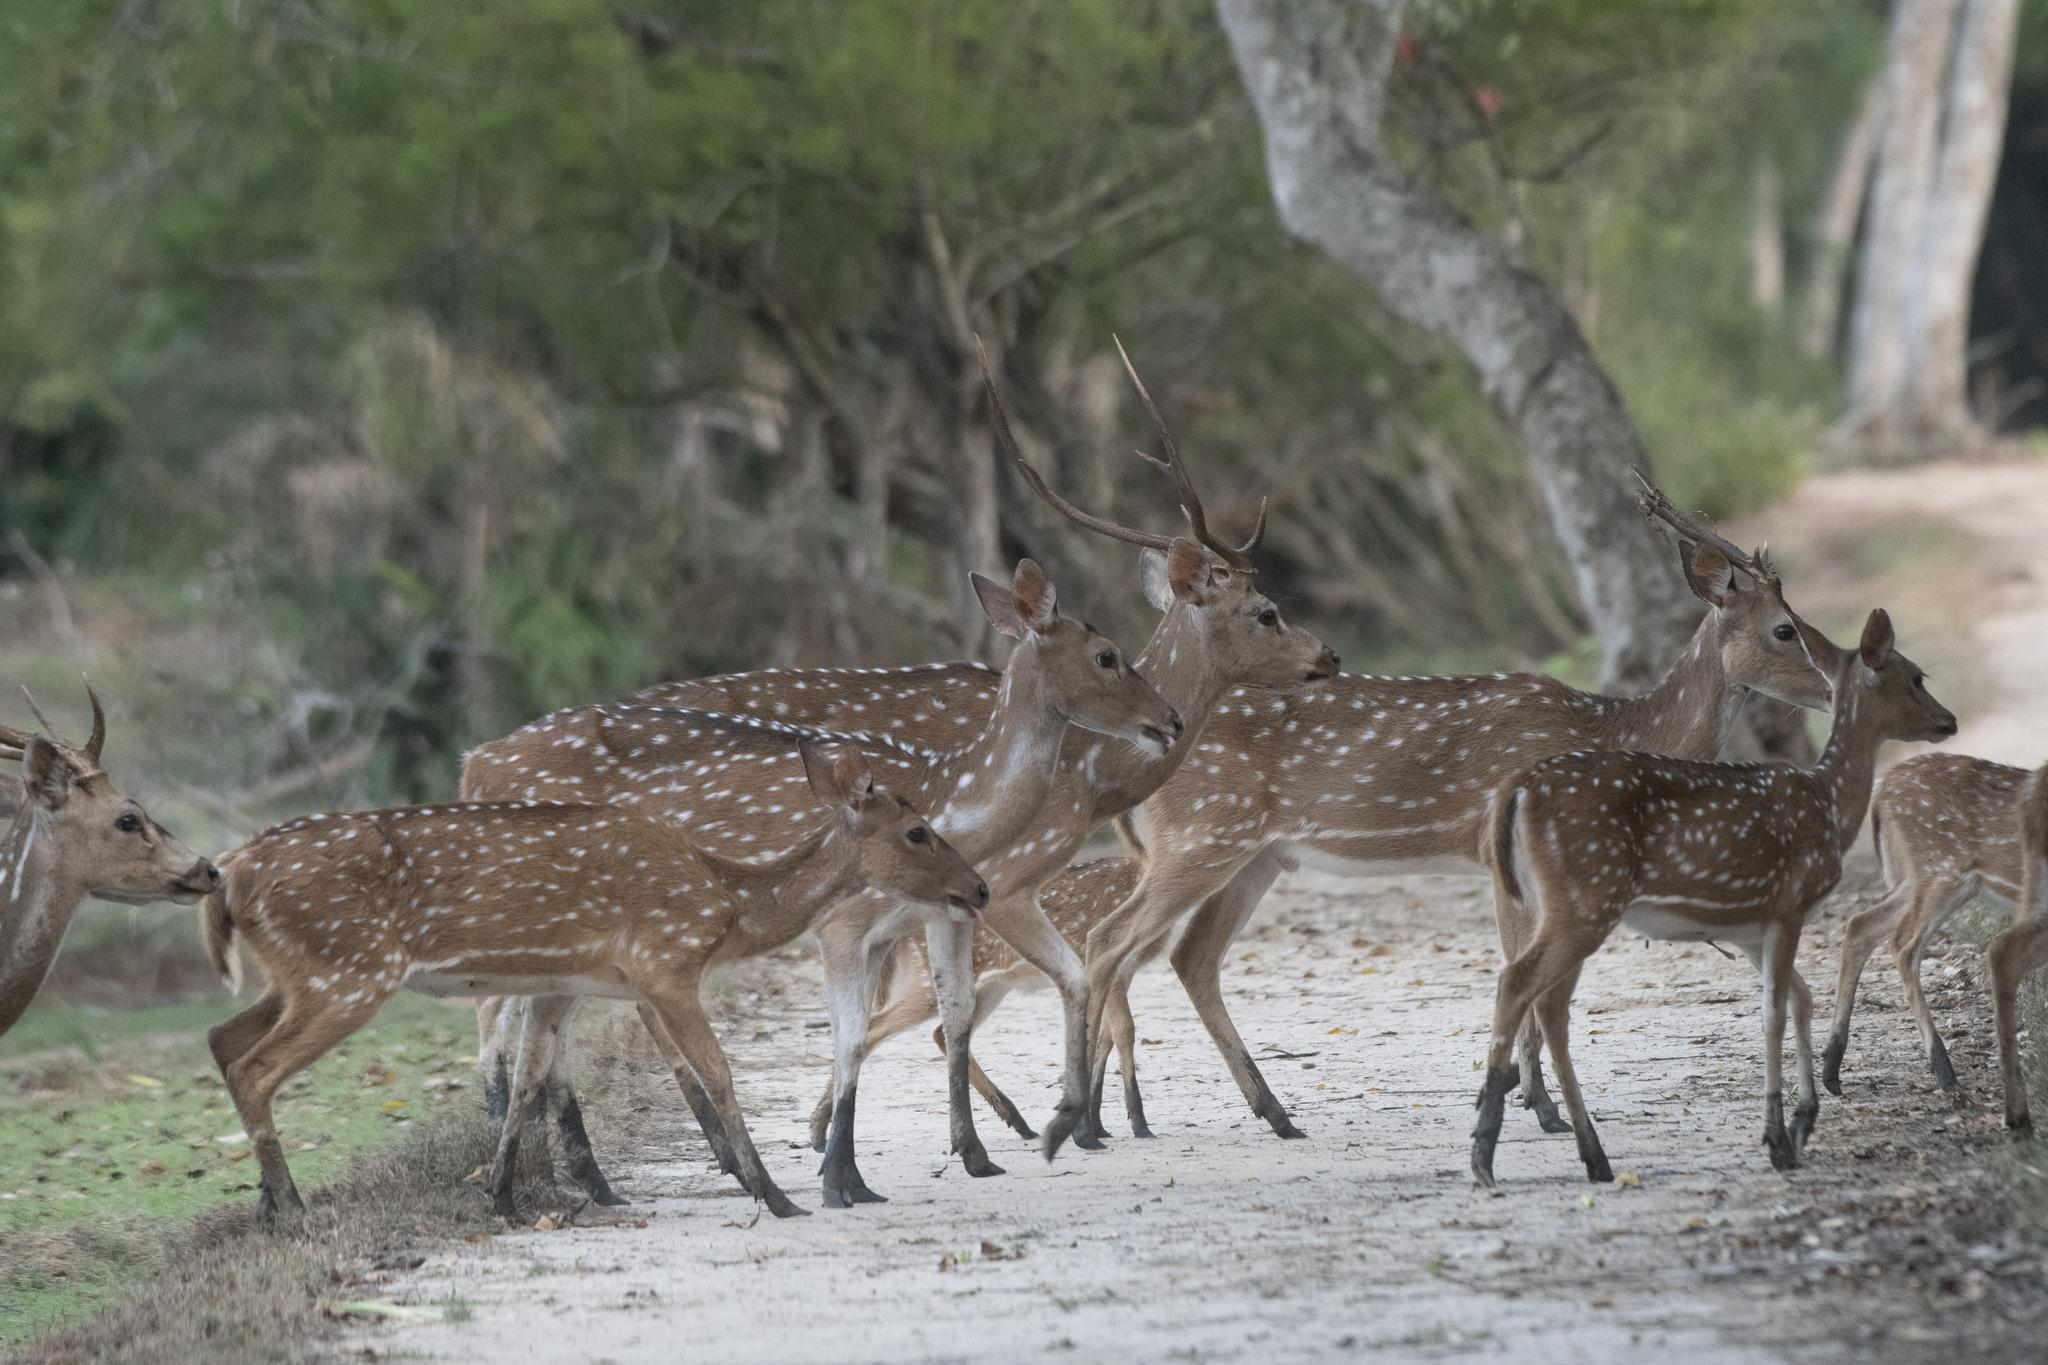Deer: (1077, 471, 1852, 1127), (203, 730, 990, 1216), (203, 730, 988, 1216), (1471, 609, 1957, 1185), (997, 350, 1338, 724), (0, 689, 221, 1033), (1824, 753, 2030, 1091)
